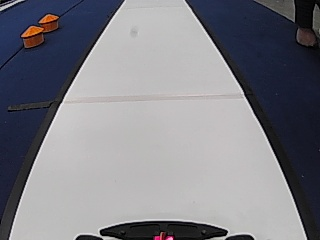granary: (20, 23, 44, 49), (38, 12, 59, 32)
